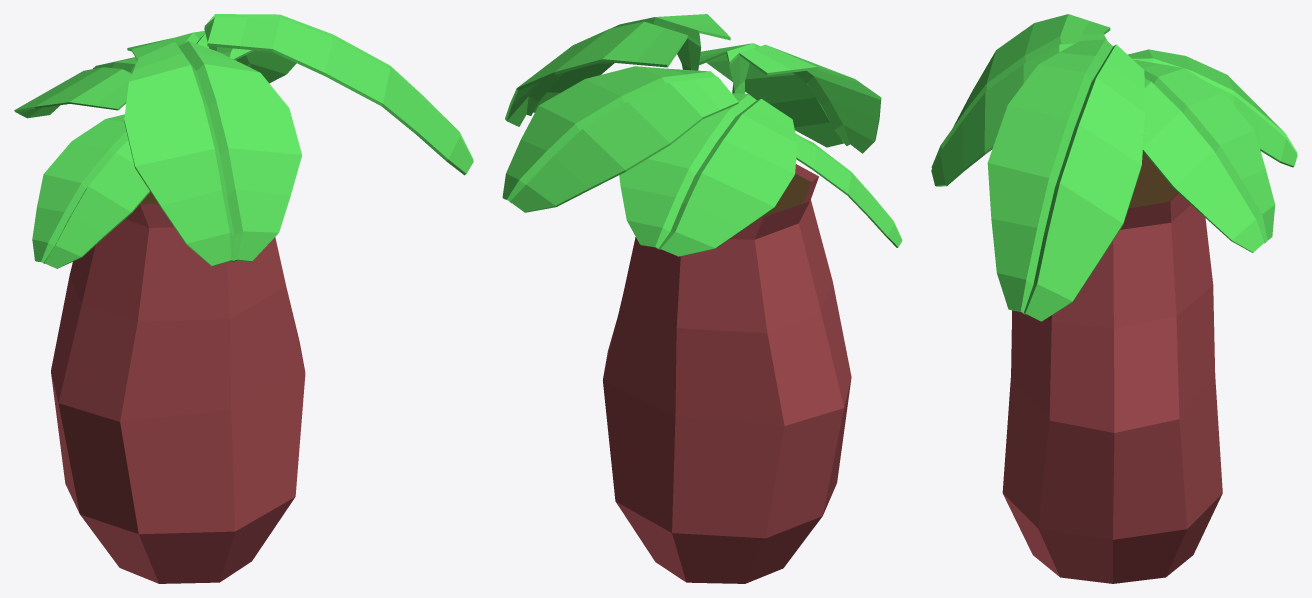
File: FlowerPot_MB.fbx
The picture shows the model from 3 angles, left to right: view 1: azimuth 30°, elevation 25°; view 2: azimuth 150°, elevation 25°; view 3: azimuth 270°, elevation 25°; orthographic projection. The views are drawn at different scales.
Visible parts, largest first — view 1: FlowerPot_Mb; view 2: FlowerPot_Mb; view 3: FlowerPot_Mb.
Boxes of the visible parts, x1,y1,x2,y2 form: FlowerPot_Mb: [14, 14, 473, 583]; FlowerPot_Mb: [502, 14, 902, 583]; FlowerPot_Mb: [931, 14, 1297, 583].
Bounding box in the file's own units: 320 × 393 × 246.
